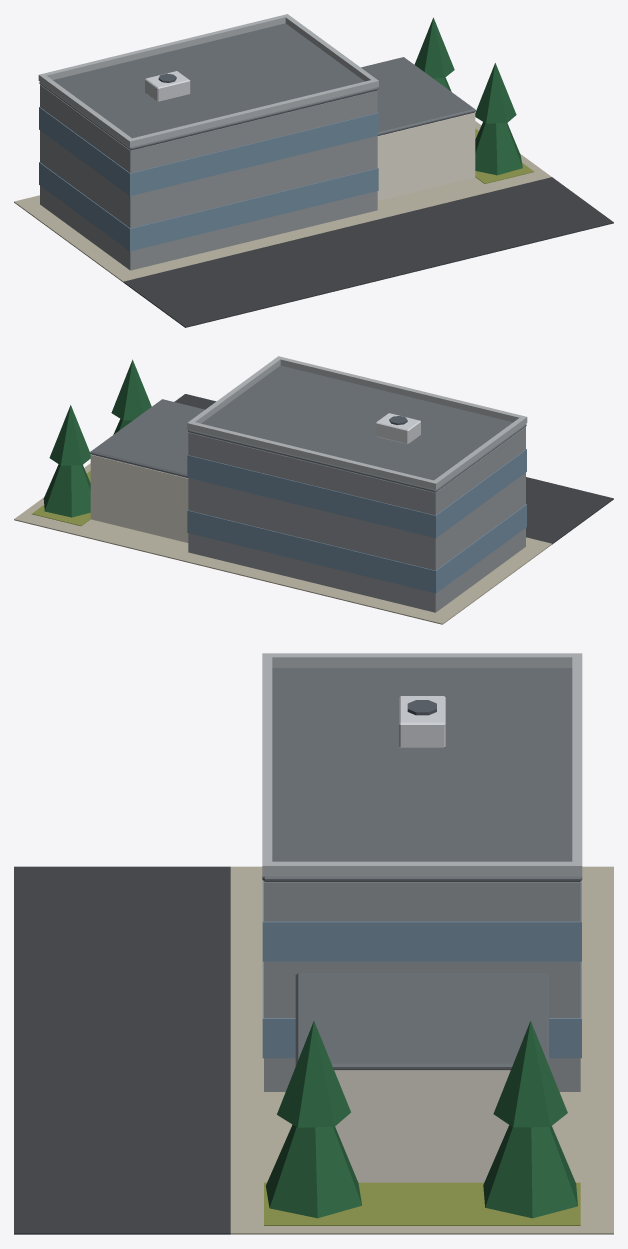
Rendered from site_office.glb.
3 views of the same model, one above another, from view 1: azimuth 30°, elevation 25°; view 2: azimuth 150°, elevation 25°; view 3: azimuth 270°, elevation 25° (orthographic). The views are drawn at different scales.
Parts seen in each view (by area): view 1: site_office; view 2: site_office; view 3: site_office.
Part boxes in pixels (x1=…): site_office: x1=14, y1=14, x2=613, y2=327; site_office: x1=14, y1=356, x2=613, y2=624; site_office: x1=14, y1=653, x2=613, y2=1234.
Size of the model in its own units: 26 by 8.17 by 18.
